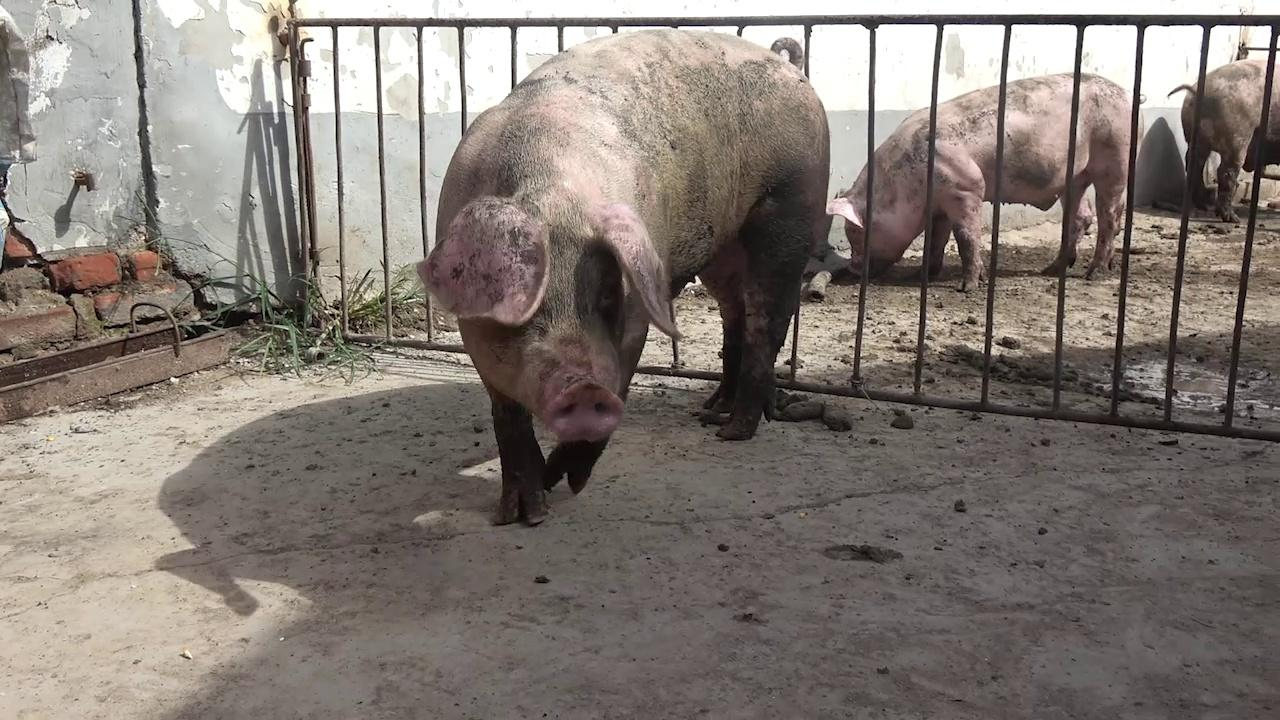Face: (409, 182, 686, 463)
